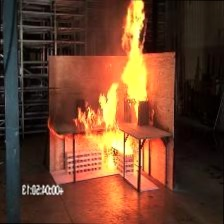fire: (79, 0, 160, 178)
